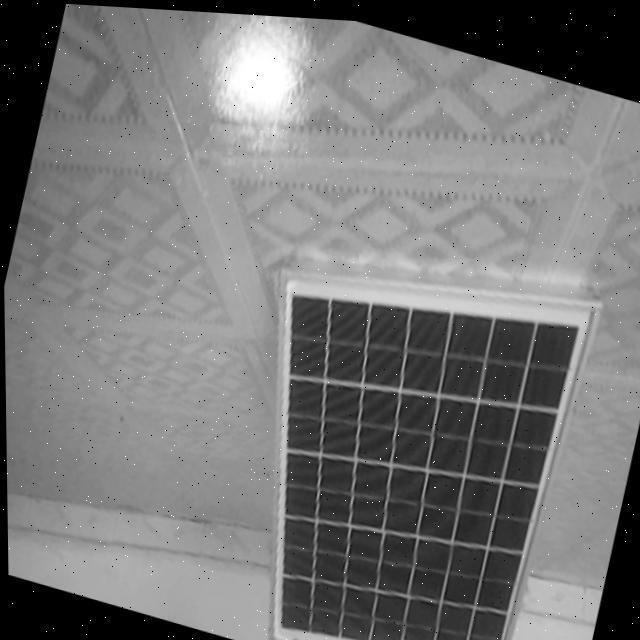Normal Solar Panel: (198, 208, 606, 640)
